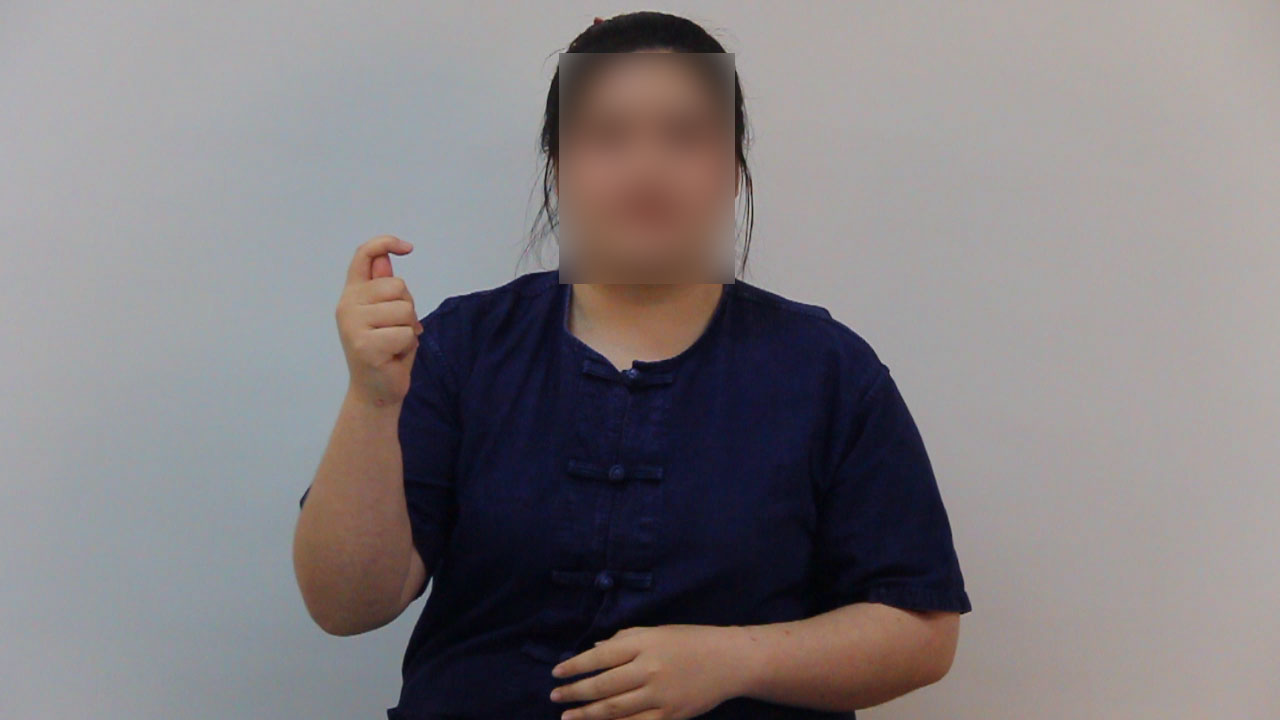or: (332, 227, 428, 406)
